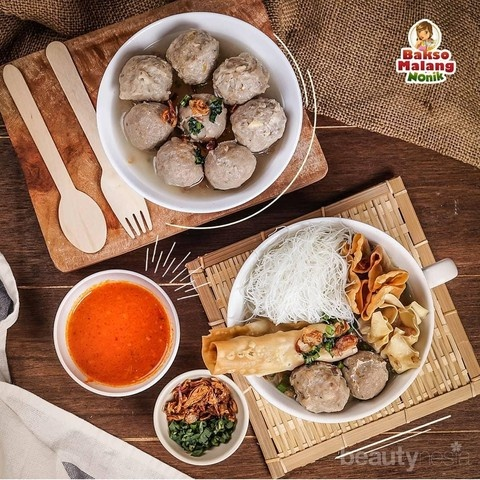bakso_malang: (202, 231, 425, 414)
